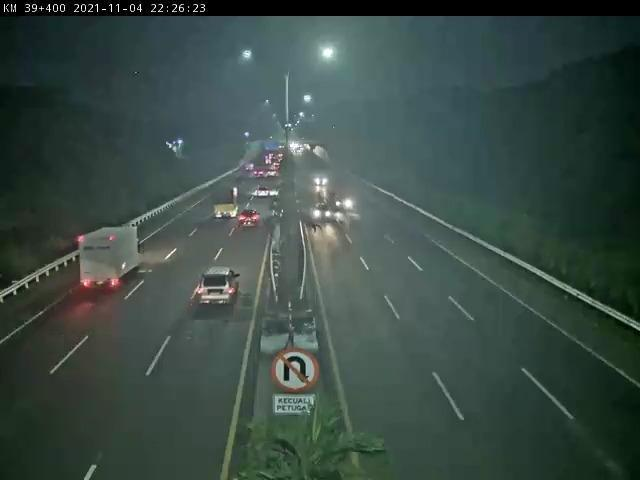car: (198, 268, 240, 303), (313, 204, 331, 222), (337, 194, 354, 213), (239, 211, 259, 225), (315, 173, 332, 186), (257, 187, 270, 199)
truck: (80, 226, 142, 290), (214, 187, 242, 219)
